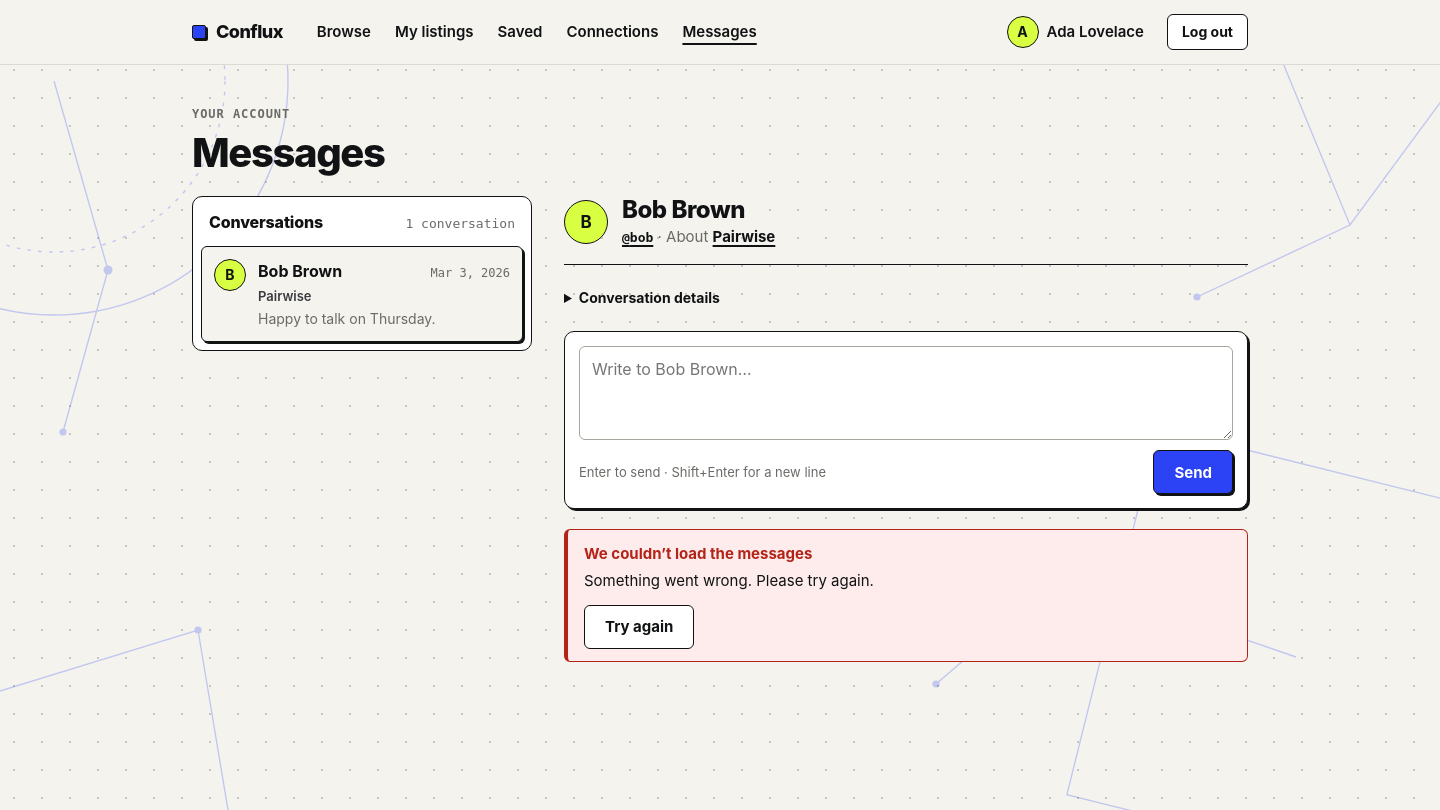
Message list › shows a message-loading error with a working retry
Expected: the message that starts with "We couldn’t load the messages" is shown, [584,544,812,563]
Click the button "Try again" at point(639, 627), box [584,605,694,649]
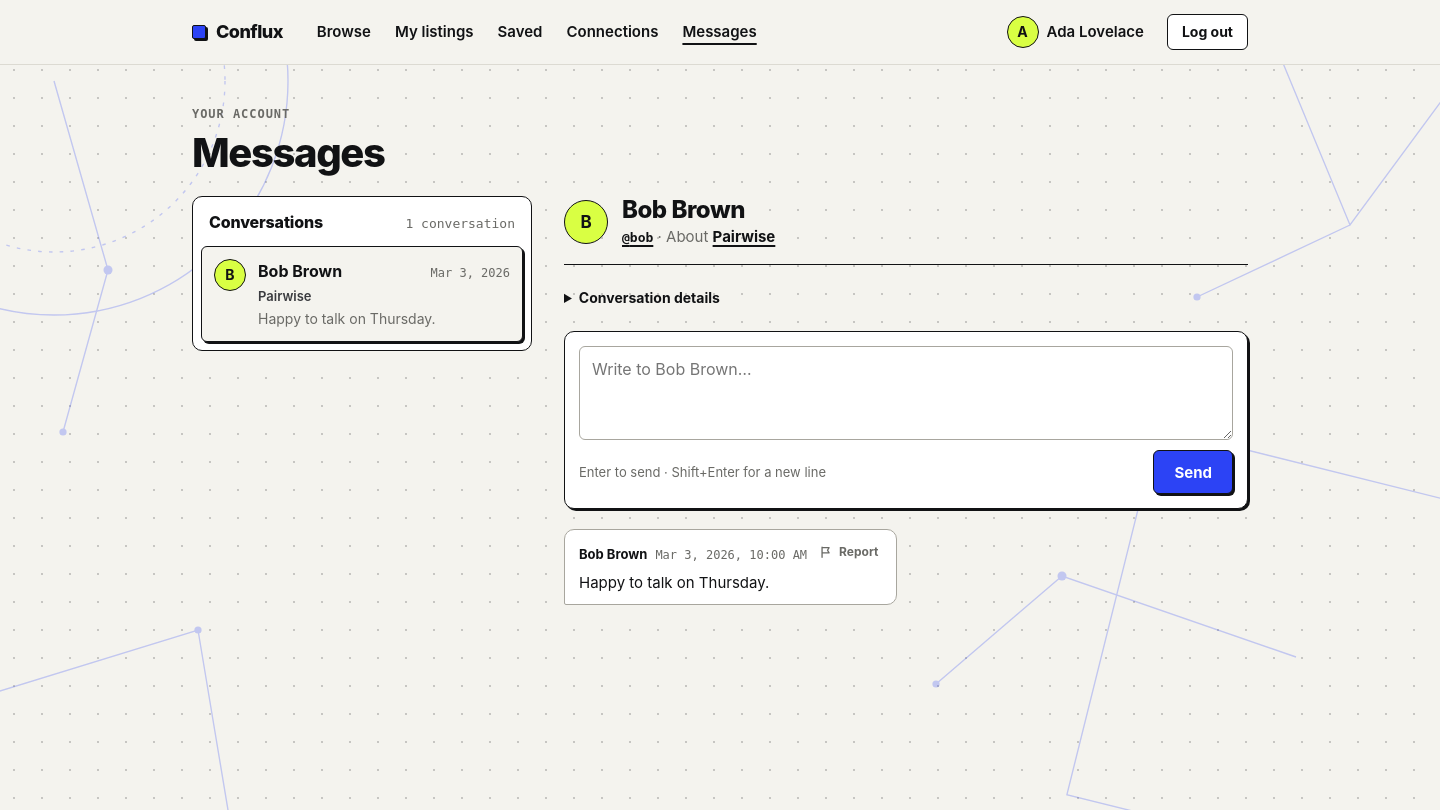
Result: the text "Happy to talk on Thursday." below "Mar 3, 2026, 10:00 AM" is shown at [579,573,769,592]
